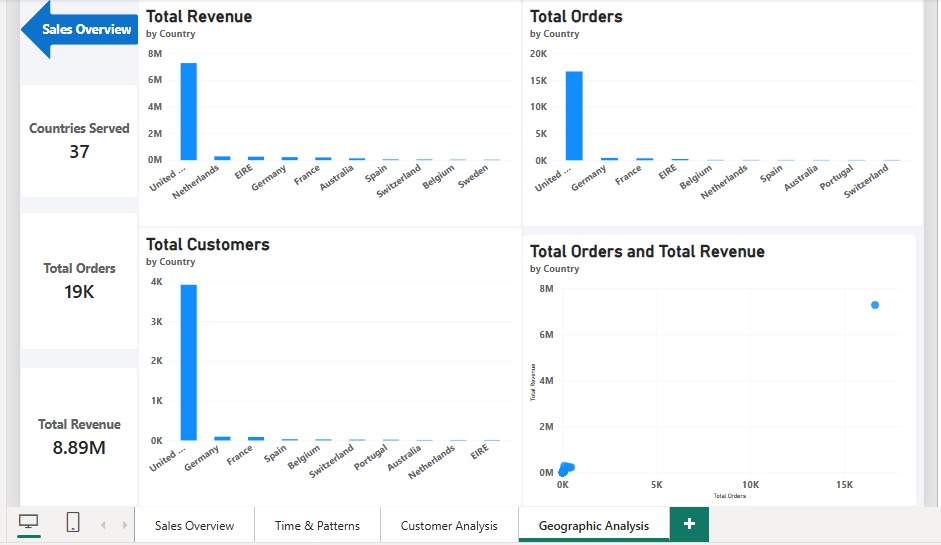

What the dashboard file says about the page in this screenshot:
{"tool":"powerbi","page":{"name":"Geographic Analysis","canvas":[1920,1080],"ordinal":3},"visuals":[{"type":"columnChart","fields":{"Category":["Sheet1.Country"],"Y":["Sheet1.Total Revenue"]},"box":[250.9,0,816.4,484.7],"z":0},{"type":"columnChart","fields":{"Category":["Sheet1.Country"],"Y":["Date Table.Total Customers"]},"box":[251.1,485.1,817,595.7],"z":1000},{"type":"columnChart","fields":{"Category":["Sheet1.Country"],"Y":["Sheet1.Total Orders"]},"box":[1068.1,0,853.2,485.1],"z":2000},{"type":"scatterChart","fields":{"Category":["Sheet1.Country"],"X":["Sheet1.Total Orders"],"Y":["Sheet1.Total Revenue"]},"box":[1067.2,499.6,839.8,580.4],"z":3000},{"type":"actionButton","box":[0,0,251.1,129.8],"z":4000},{"type":"cardVisual","fields":{"Data":["Sheet1.Total Orders"]},"box":[0,452.8,250.9,293.4],"z":4003},{"type":"cardVisual","fields":{"Data":["Sheet1.Total Revenue"]},"box":[0,782.4,250.9,297.6],"z":4004},{"type":"cardVisual","fields":{"Data":["Sheet1.Countries Served"]},"box":[0,180.7,250.9,242.4],"z":4005}]}

Visuals, with their boxes in screenshot pixels (x1, y1, x2, y2):
columnChart - Sheet1.Country x Sheet1.Total Revenue: 178,20,559,246
columnChart - Sheet1.Country x Date Table.Total Customers: 178,246,559,523
columnChart - Sheet1.Country x Sheet1.Total Orders: 559,20,940,246
scatterChart - Sheet1.Country x Sheet1.Total Orders: 559,253,940,523
actionButton: 61,20,178,80
cardVisual - Sheet1.Total Orders: 61,231,178,367
cardVisual - Sheet1.Total Revenue: 61,384,178,523
cardVisual - Sheet1.Countries Served: 61,104,178,217
